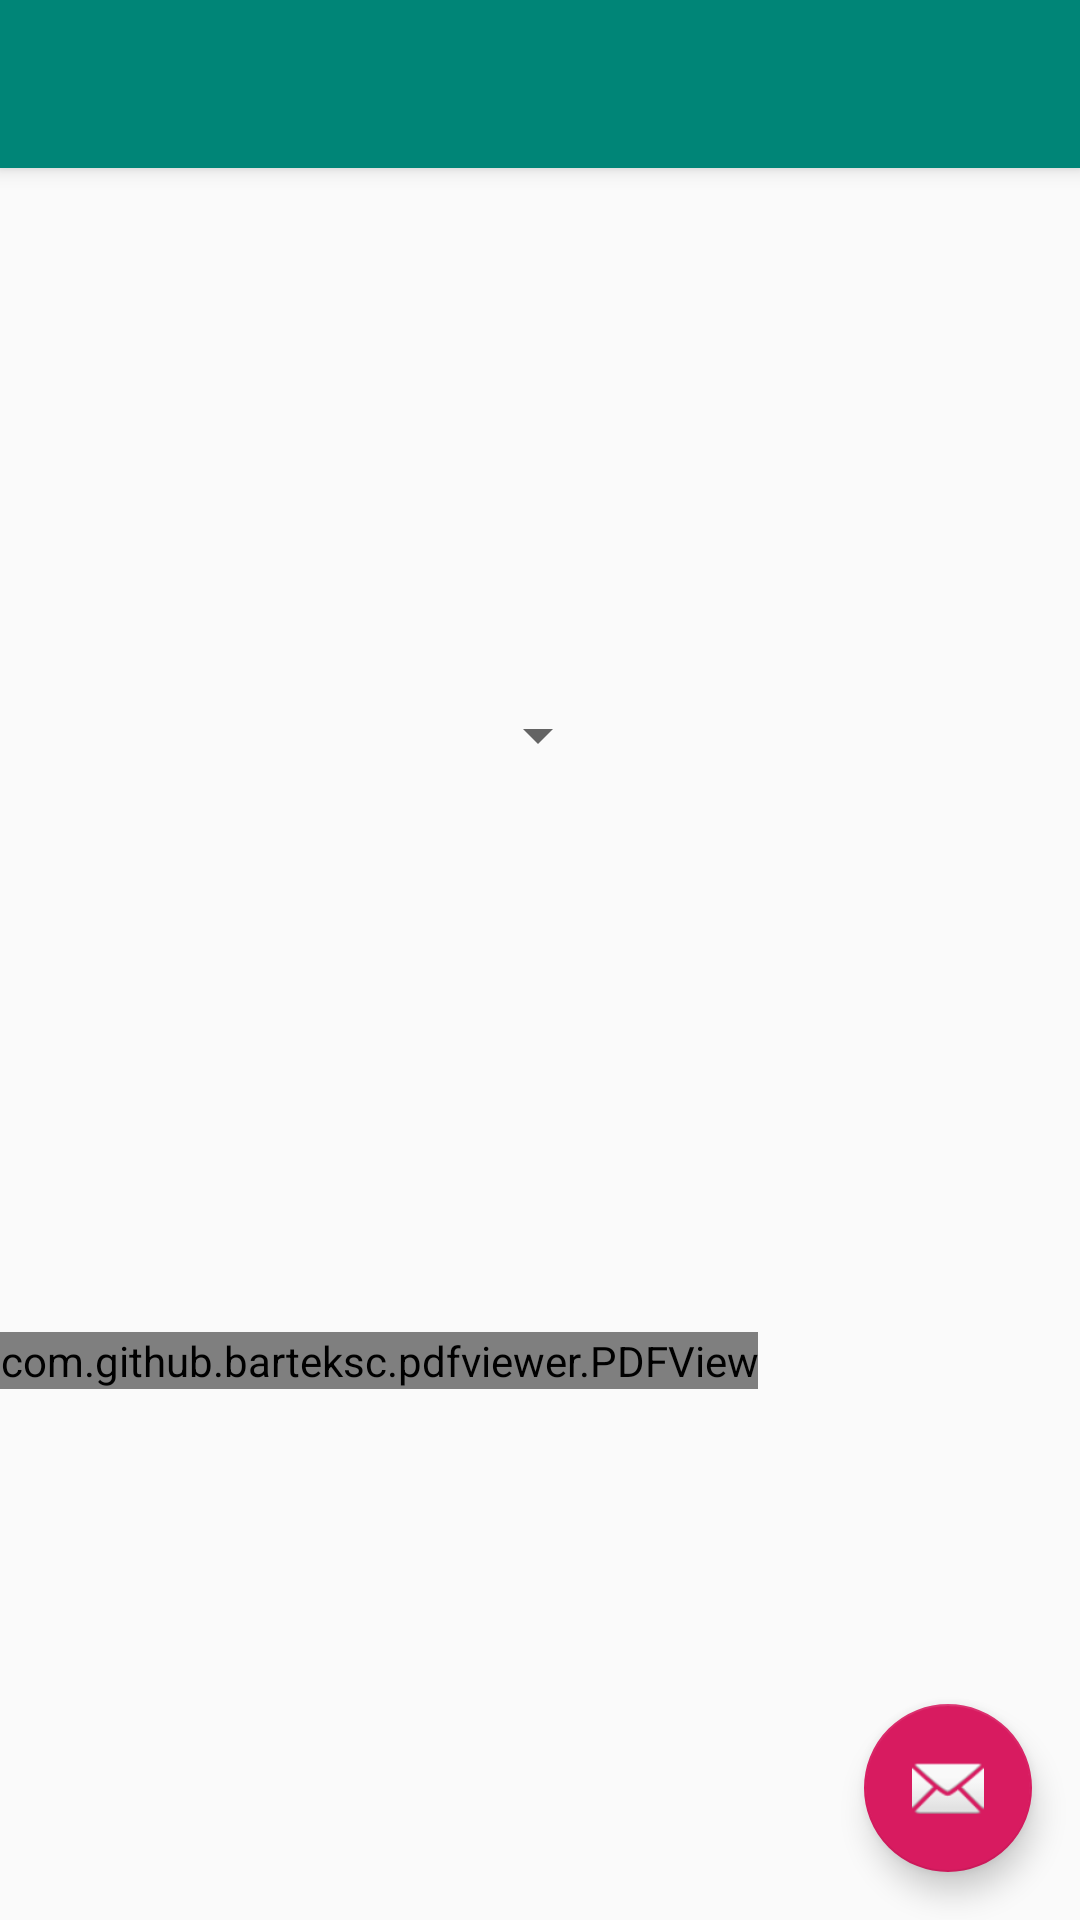

Screen size 1080w x 1920h. Icon name, then its box in pixels as (x1, y1, x2, y2):
email: (864, 1704, 1032, 1872)
